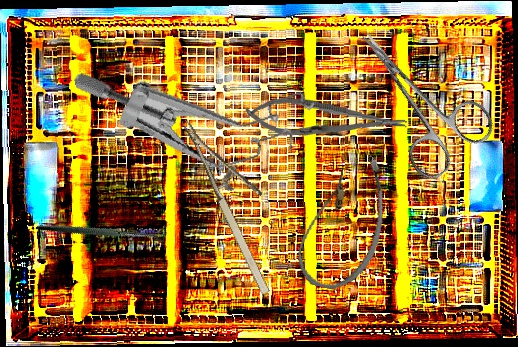Cannula: (291, 145, 396, 297)
Hook Surgical: (35, 167, 171, 290)
Iris Scissors: (330, 3, 502, 186)
Needle Holder: (181, 103, 299, 298), (243, 94, 409, 144)
Speculum: (72, 14, 327, 204)
